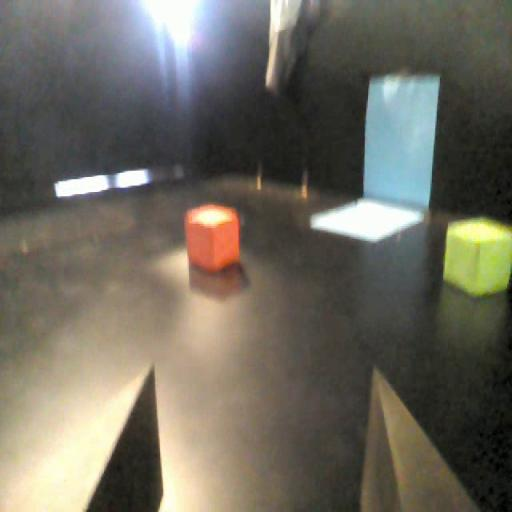cube: (446, 214, 511, 299), (179, 206, 240, 278)
